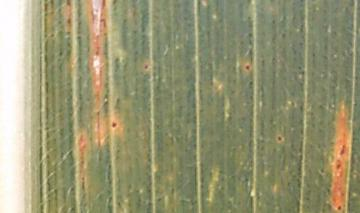tarspot: (276, 135, 283, 142), (112, 121, 117, 127), (143, 65, 149, 70), (246, 64, 251, 70), (337, 205, 342, 210)
